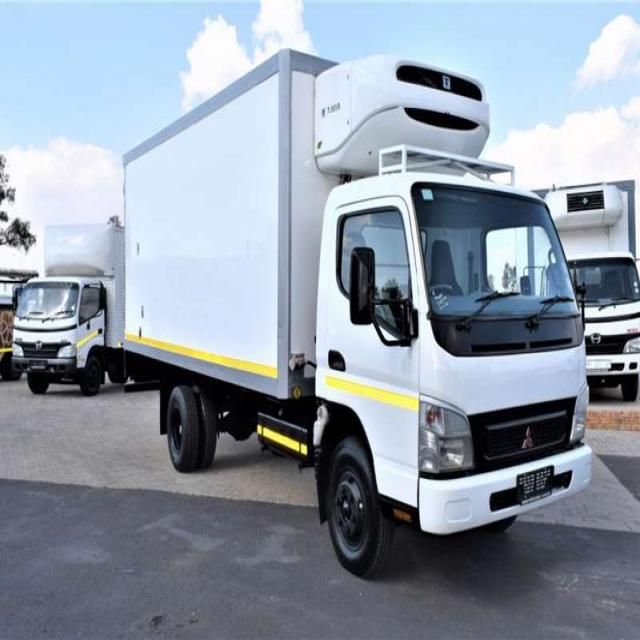truck: (120, 41, 590, 581), (14, 210, 128, 396)
